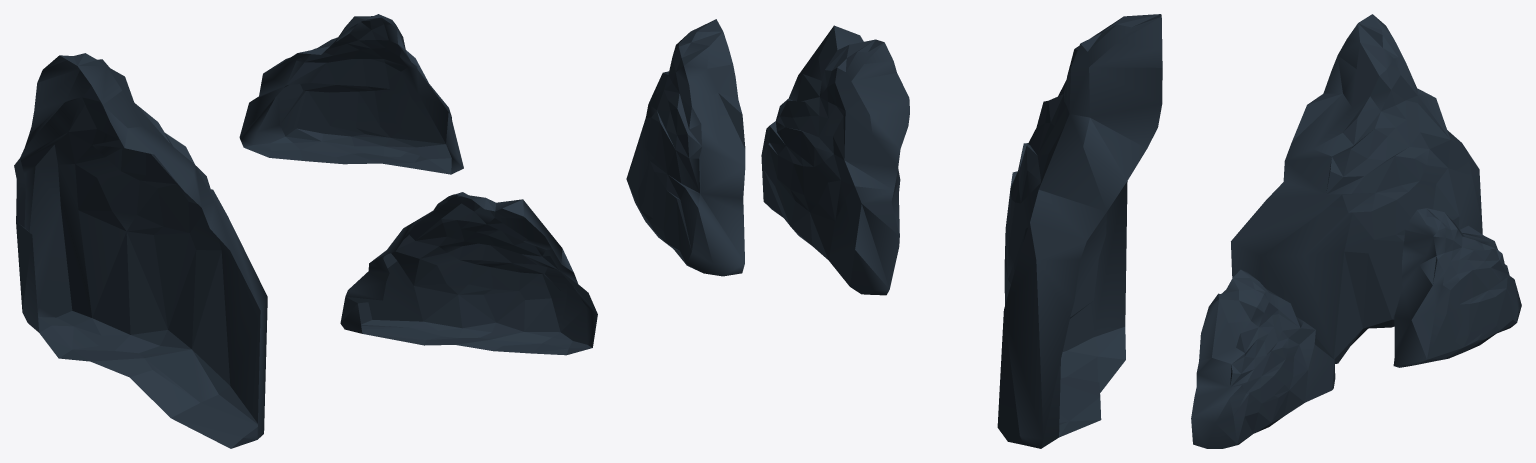
File: mountainShape3.glb
3 renders of one model, left to right at view 1: azimuth 30°, elevation 25°; view 2: azimuth 150°, elevation 25°; view 3: azimuth 270°, elevation 25°, orthographic. The views are drawn at different scales.
Parts seen in each view (by area): view 1: mountainShape2, mountainShape2.002, mountainShape1; view 2: mountainShape2, mountainShape2.002, mountainShape1; view 3: mountainShape2, mountainShape2.002, mountainShape1.
Boxes of the visible parts, x1,y1,x2,y2 form: mountainShape2: [14, 53, 267, 448]; mountainShape2.002: [340, 192, 597, 355]; mountainShape1: [239, 14, 463, 174]; mountainShape2: [997, 14, 1162, 448]; mountainShape2.002: [761, 25, 909, 295]; mountainShape1: [626, 19, 745, 276]; mountainShape2: [1231, 14, 1482, 363]; mountainShape2.002: [1191, 269, 1335, 448]; mountainShape1: [1393, 208, 1521, 367].
Size of the model in its own units: 154 by 122 by 121.
Materials: 1 (1 with a texture image).
